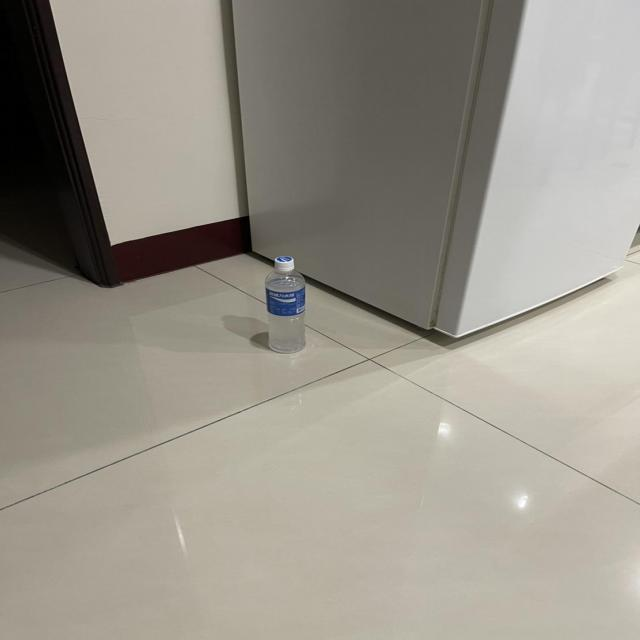bottle: (254, 260, 319, 350)
